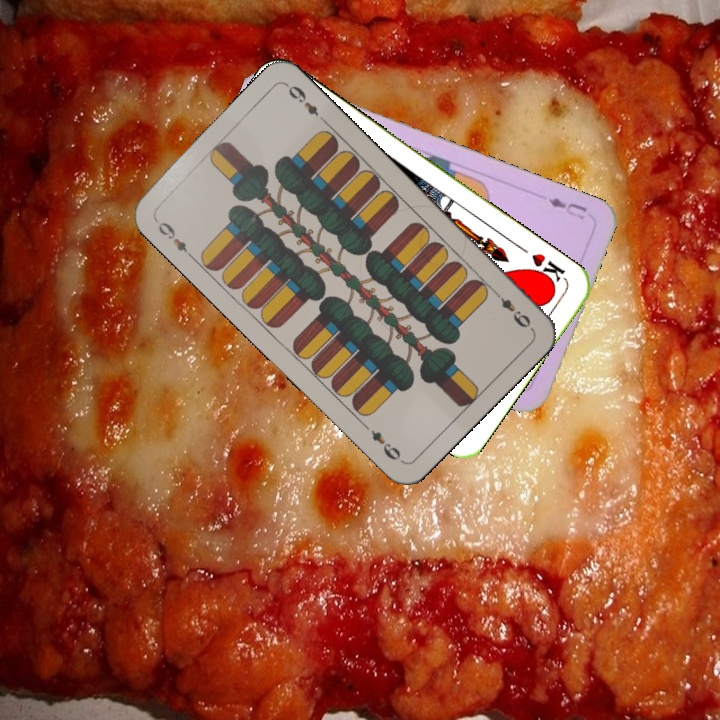E9: (151, 215, 196, 261), (490, 286, 534, 331)
EU: (543, 193, 590, 223)
HK: (526, 249, 569, 289)
